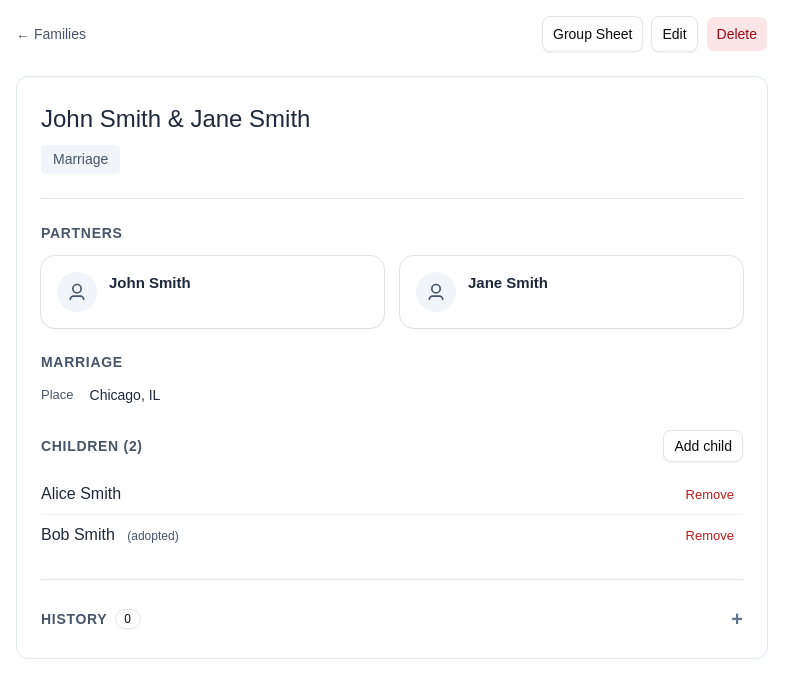
Test: Family Detail Page: partners and children (#826) › keeps the form open and shows a refused save in it
Check: the heading "John Smith & Jane Smith" is shown, box [41,105,310,132]
Click the button "Edit": (674, 34) [651,16,698,52]
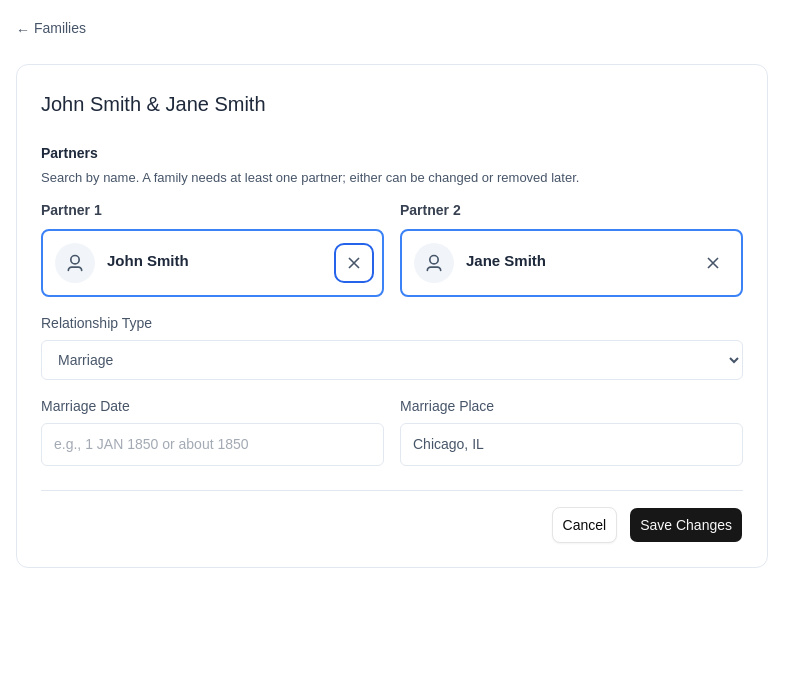
Click the button "Save Changes": (686, 524) [629,506,743,542]
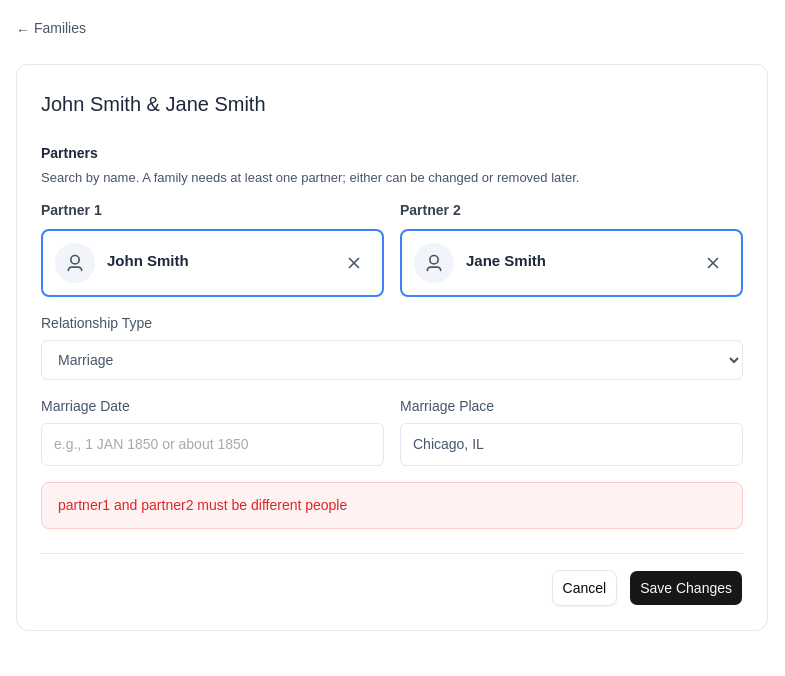
Check: the button "Save Changes" is shown, box [629,570,743,606]
Check: the message shows "must be different people", box [58,496,347,512]
